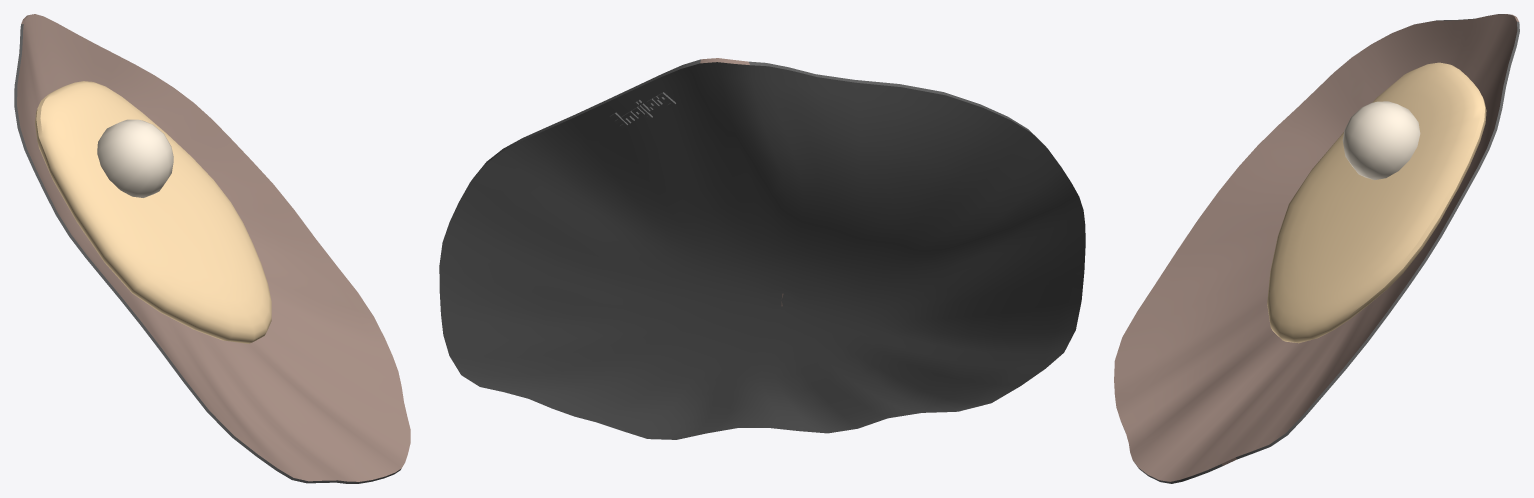
File: oyster.glb
3 views of the same model, side by side, from view 1: azimuth 30°, elevation 25°; view 2: azimuth 150°, elevation 25°; view 3: azimuth 270°, elevation 25° (orthographic). The views are drawn at different scales.
Visible parts, largest first — view 1: Circle.2250; view 2: Circle.2250; view 3: Circle.2250.
Part boxes in pixels (left/top/right/bottom): Circle.2250: left=14, top=14, right=410, bottom=483; Circle.2250: left=439, top=58, right=1085, bottom=439; Circle.2250: left=1114, top=14, right=1519, bottom=483.
Size of the model in its own units: 1.87 by 2.07 by 2.07.
1 material, 1 textured.
